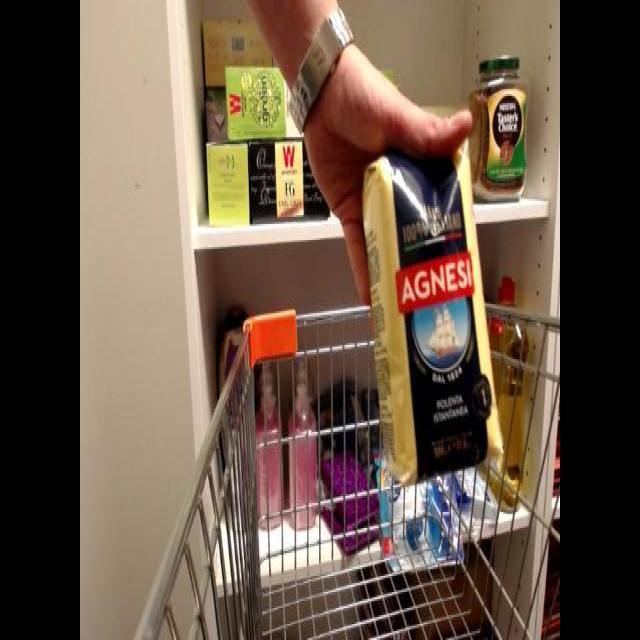Agnesi Polenta: (362, 117, 498, 484)
